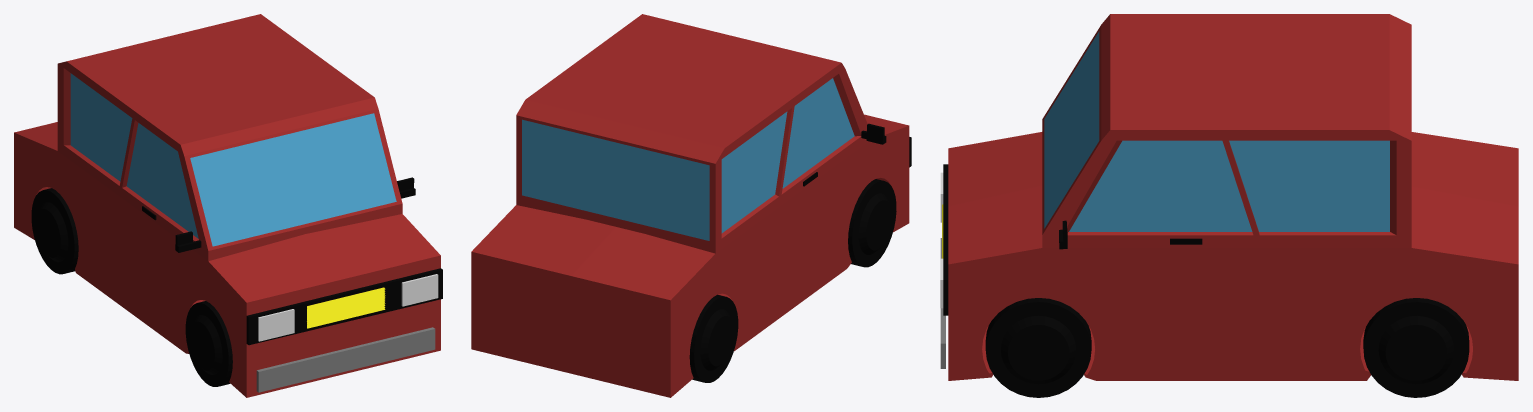
The model's file is NPCcar2_red.fbx.
3 renders of one model, left to right at view 1: azimuth 30°, elevation 25°; view 2: azimuth 150°, elevation 25°; view 3: azimuth 270°, elevation 25°, orthographic. The views are drawn at different scales.
Parts seen in each view (by area): view 1: car02_red; view 2: car02_red; view 3: car02_red.
Boxes of the visible parts, x1,y1,x2,y2 form: car02_red: [14, 14, 442, 397]; car02_red: [471, 14, 911, 397]; car02_red: [940, 14, 1518, 397].
Bounding box in the file's own units: 55.39 × 48.56 × 95.57.
